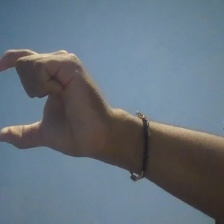G: (1, 44, 113, 168)
